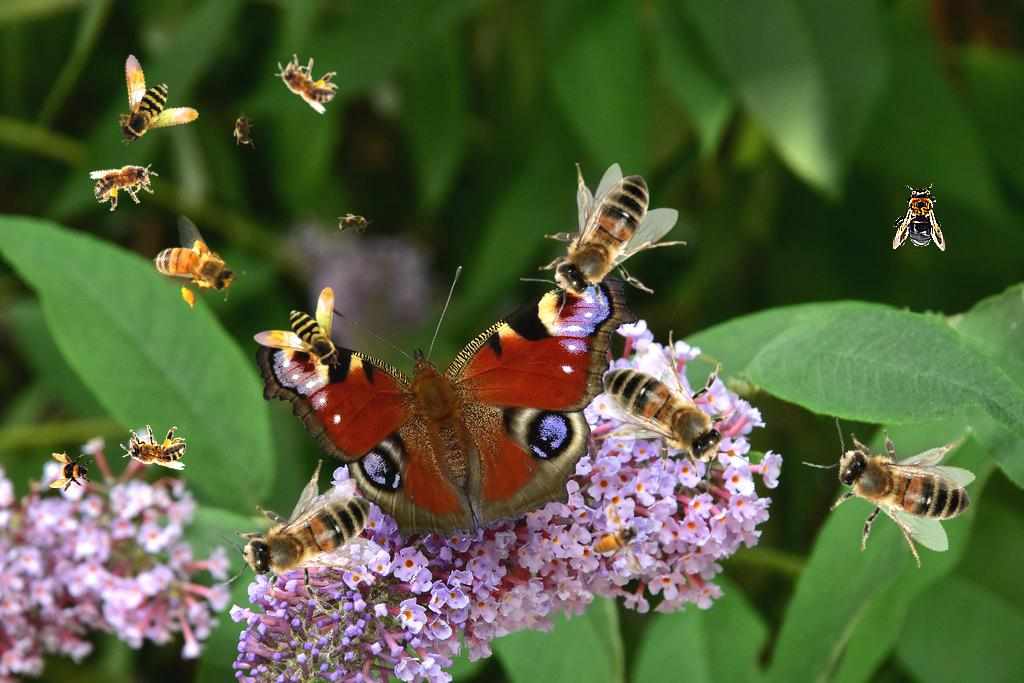Bee: (190, 431, 417, 655), (792, 384, 997, 592), (591, 330, 753, 497), (520, 163, 687, 325), (137, 209, 251, 324), (100, 40, 202, 148), (253, 287, 341, 369), (266, 45, 346, 116), (87, 151, 165, 216), (592, 503, 642, 574), (893, 183, 945, 251), (120, 425, 186, 470), (49, 451, 93, 495), (334, 213, 374, 235), (233, 109, 255, 149)
